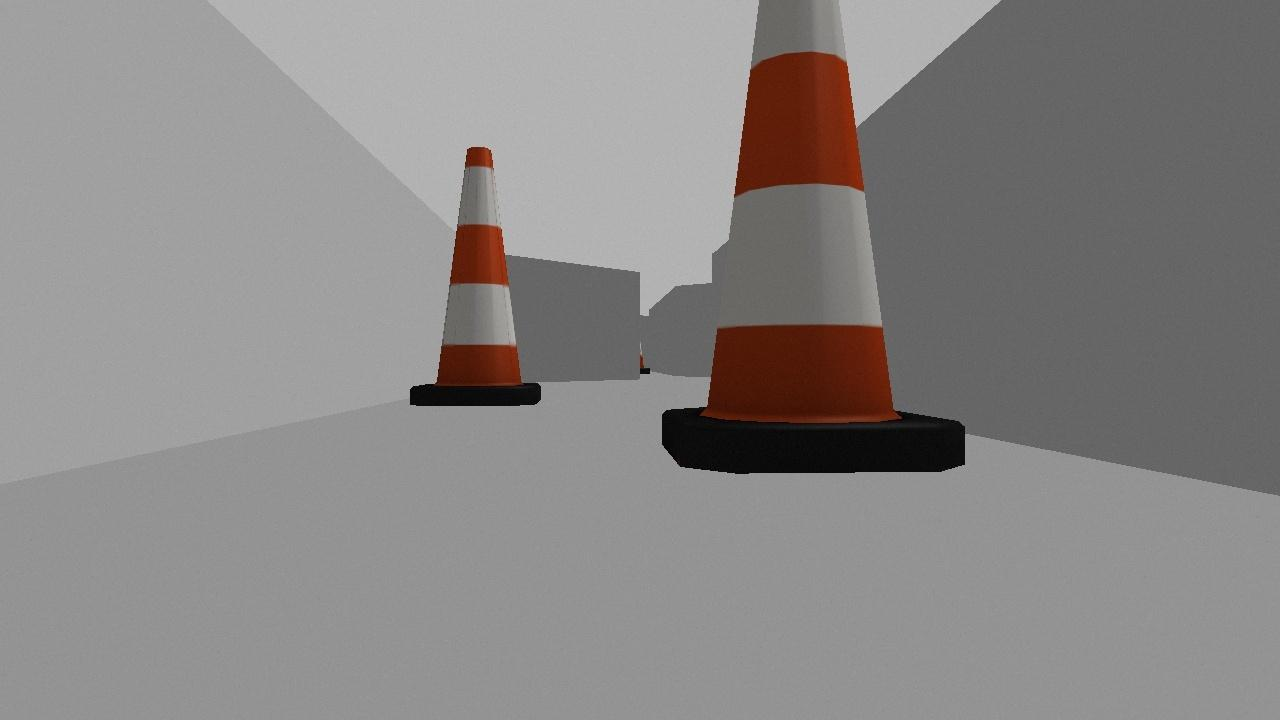cone_barrel: (660, 0, 964, 472), (408, 144, 539, 405)
